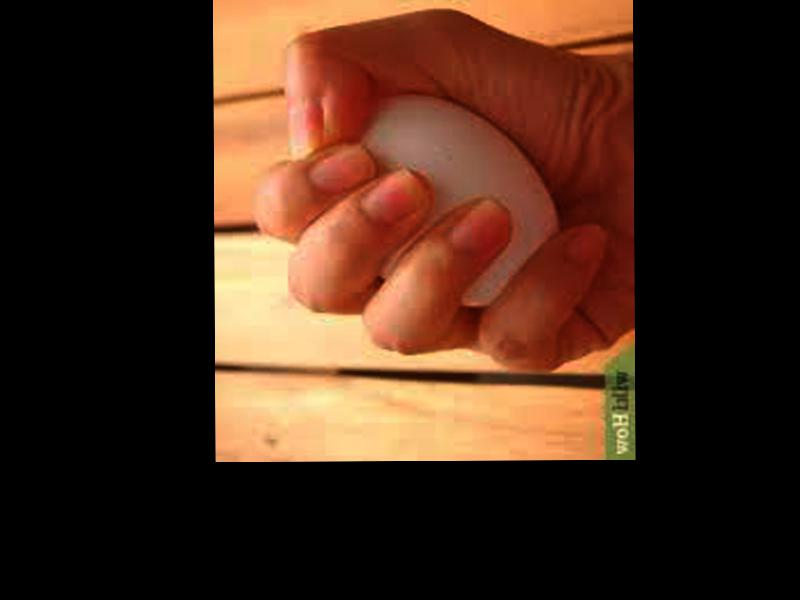Eggs: (337, 94, 559, 311)
